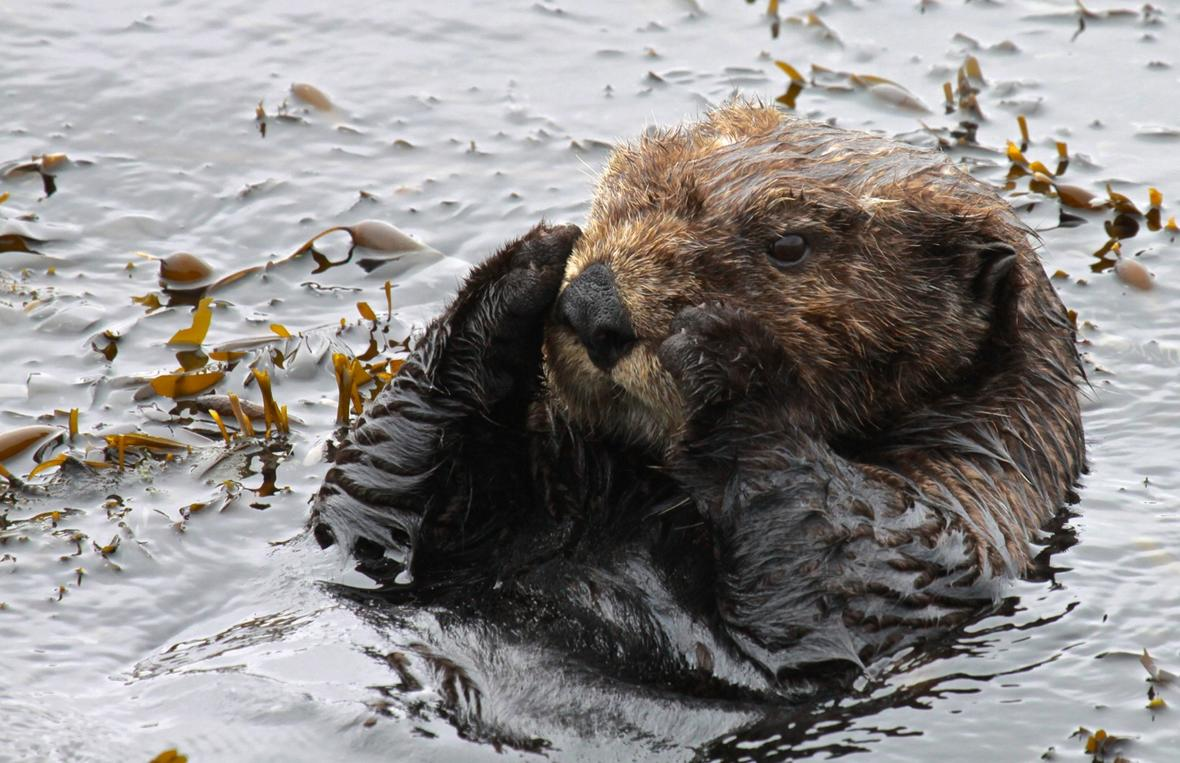otter: (288, 74, 1162, 706)
